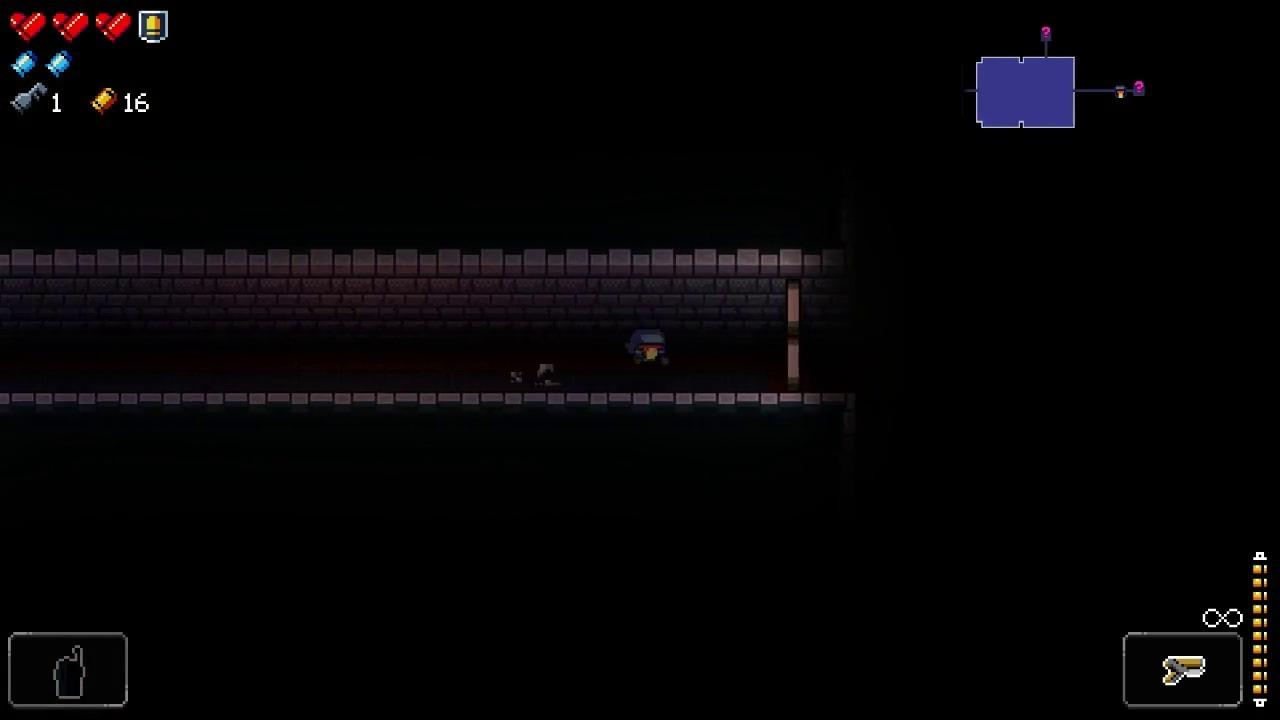player: (625, 327, 670, 367)
unlocked_door: (788, 281, 799, 394)
